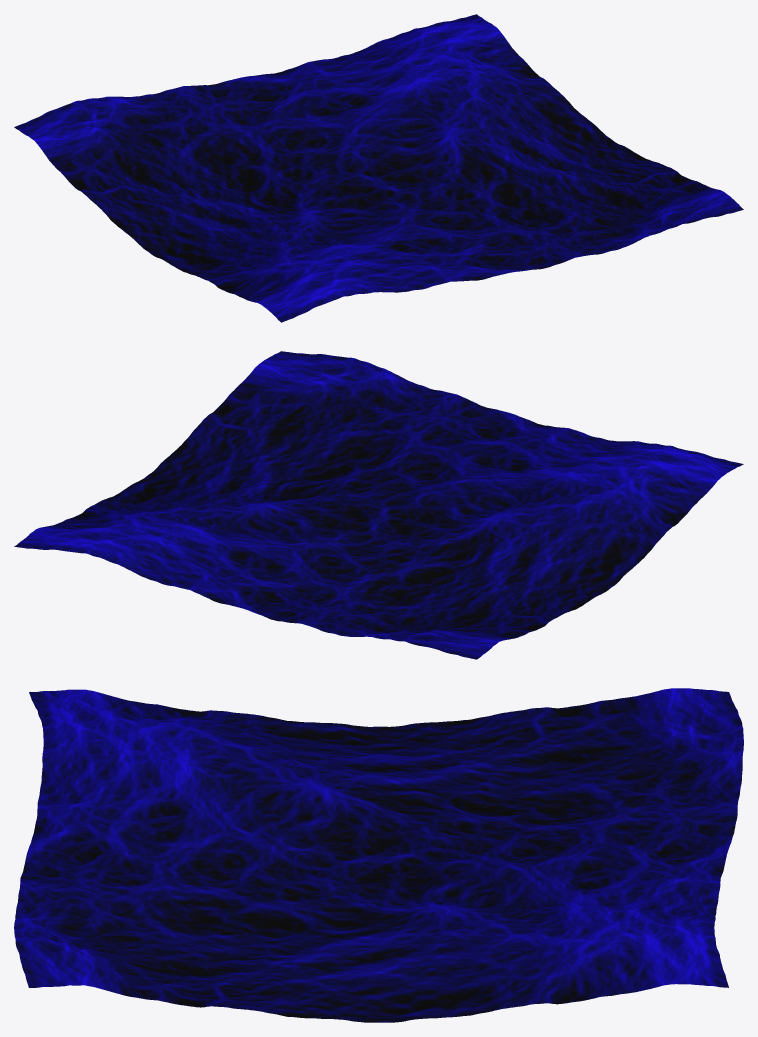
Rendered from waves.gltf.
The picture shows the model from 3 angles, top to bottom: view 1: azimuth 30°, elevation 25°; view 2: azimuth 150°, elevation 25°; view 3: azimuth 270°, elevation 25°; orthographic projection. The views are drawn at different scales.
Visible parts, largest first — view 1: Plane; view 2: Plane; view 3: Plane.
Boxes of the visible parts, left/top/right/bottom form: Plane: left=14, top=14, right=743, bottom=322; Plane: left=14, top=351, right=743, bottom=659; Plane: left=14, top=688, right=743, bottom=1022.
Size of the model in its own units: 50.62 by 3.81 by 52.12.
